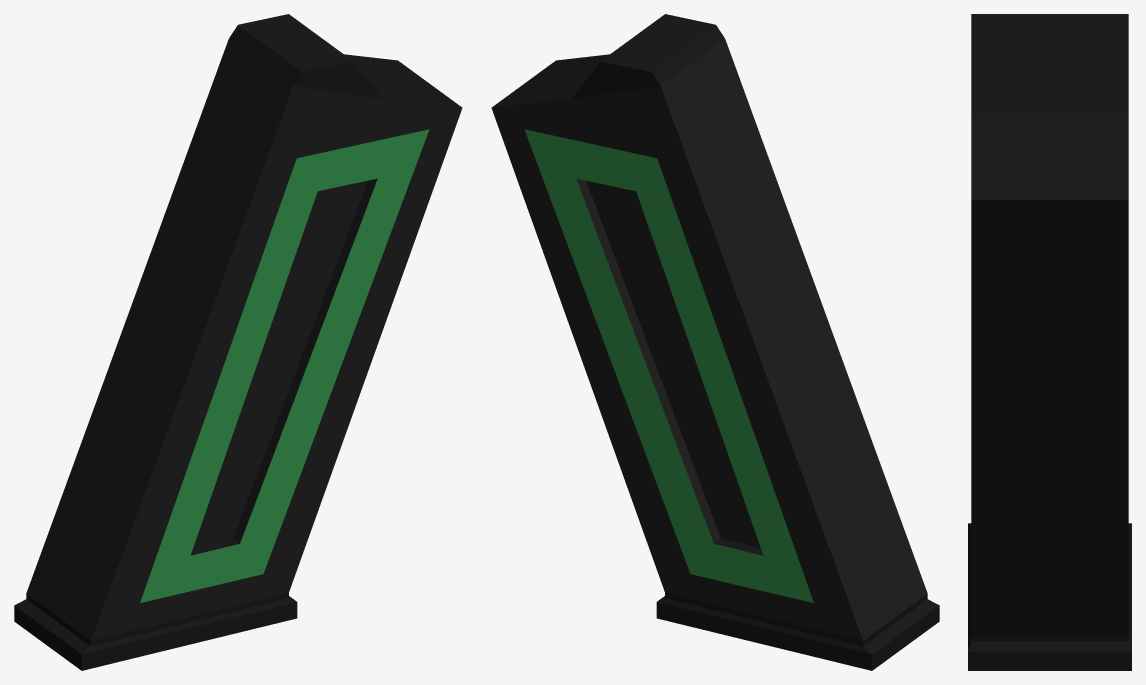
The model's file is clipRadioactive.glb.
3 renders of one model, left to right at view 1: azimuth 30°, elevation 25°; view 2: azimuth 150°, elevation 25°; view 3: azimuth 270°, elevation 25°, orthographic. The views are drawn at different scales.
Visible parts, largest first — view 1: Clip; view 2: Clip; view 3: Clip.
Part boxes in pixels (bbox=[...]): Clip: bbox=[14, 14, 462, 670]; Clip: bbox=[491, 14, 939, 670]; Clip: bbox=[968, 14, 1131, 670].
Bounding box in the file's own units: 0.1051 × 0.1428 × 0.0321.
1 material, 1 textured.
